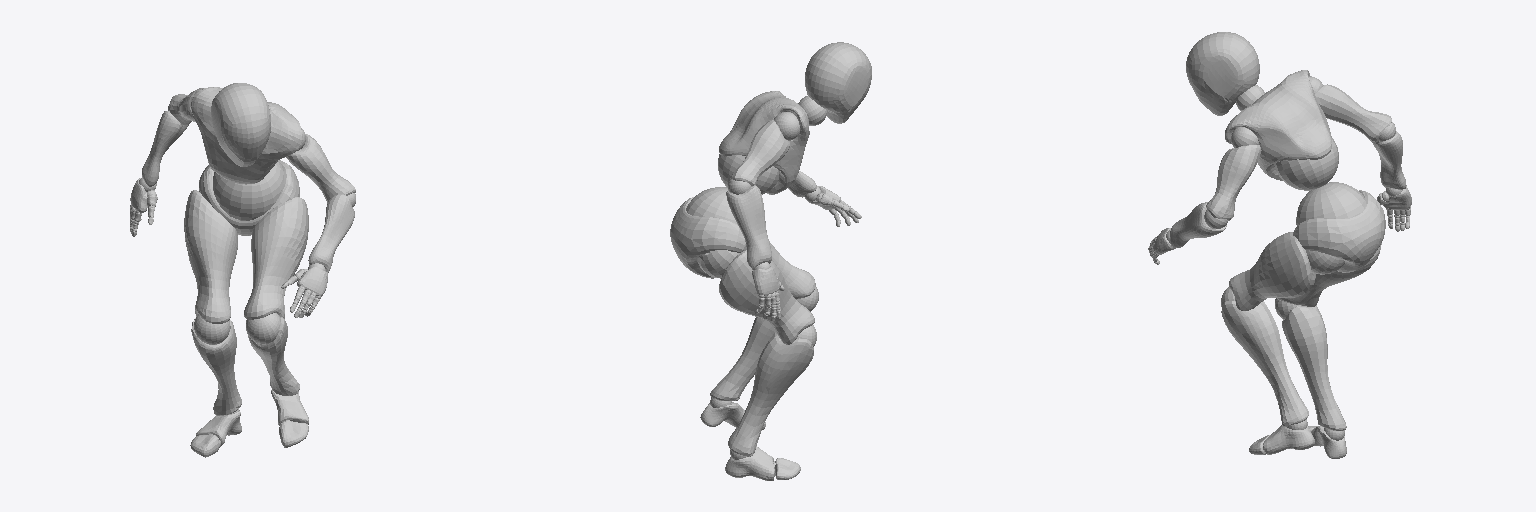
3 renders of one model, left to right at view 1: azimuth 30°, elevation 25°; view 2: azimuth 150°, elevation 25°; view 3: azimuth 270°, elevation 25°, orthographic.
Visible parts, largest first — view 1: Beta_Surface, Beta_Joints; view 2: Beta_Surface, Beta_Joints; view 3: Beta_Surface, Beta_Joints.
Boxes of the visible parts, x1,y1,x2,y2 form: Beta_Surface: [130, 83, 355, 457]; Beta_Joints: [130, 106, 355, 447]; Beta_Surface: [670, 42, 871, 480]; Beta_Joints: [686, 96, 857, 466]; Beta_Surface: [1148, 32, 1411, 458]; Beta_Joints: [1149, 76, 1410, 440].
Size of the model in its own units: 0.519 by 1.46 by 0.8711.